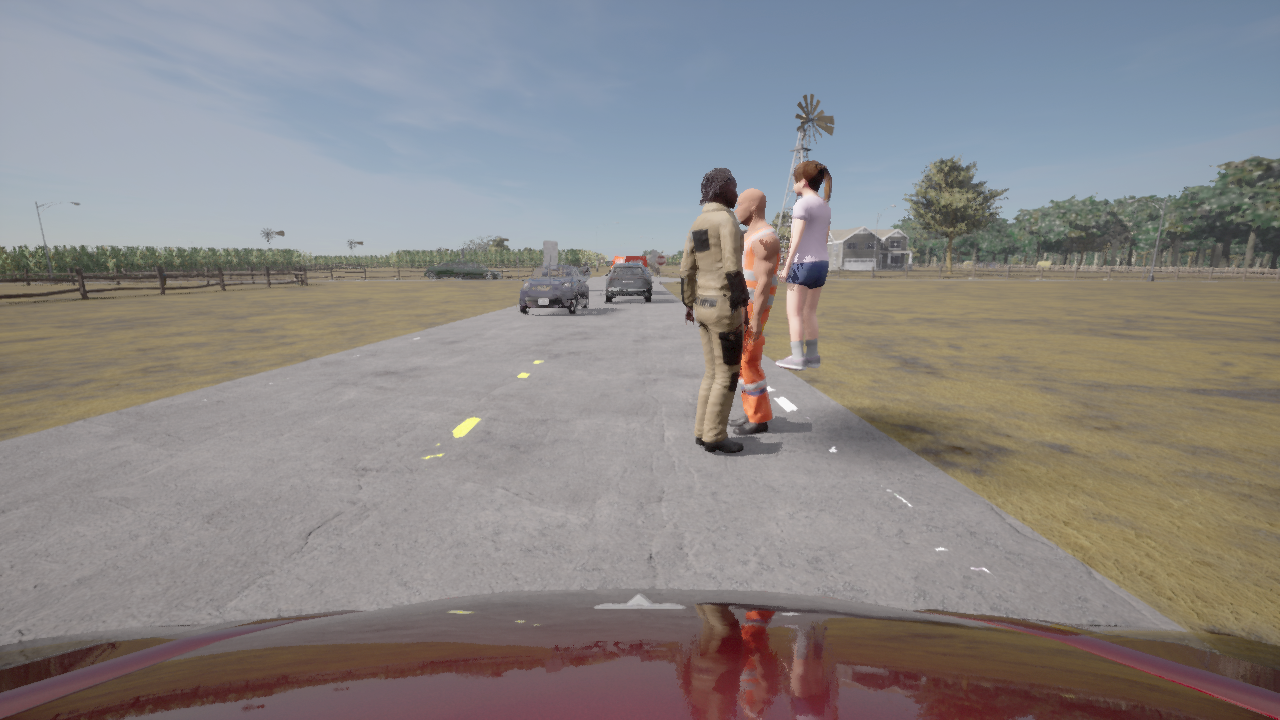cyclist: (0, 588, 1279, 719), (519, 263, 588, 314), (605, 263, 652, 302), (424, 260, 475, 279), (454, 263, 502, 279), (607, 255, 648, 271), (645, 267, 653, 280)
pedestrian: (680, 167, 750, 453), (727, 189, 779, 434), (775, 160, 831, 370), (163, 271, 166, 285)
